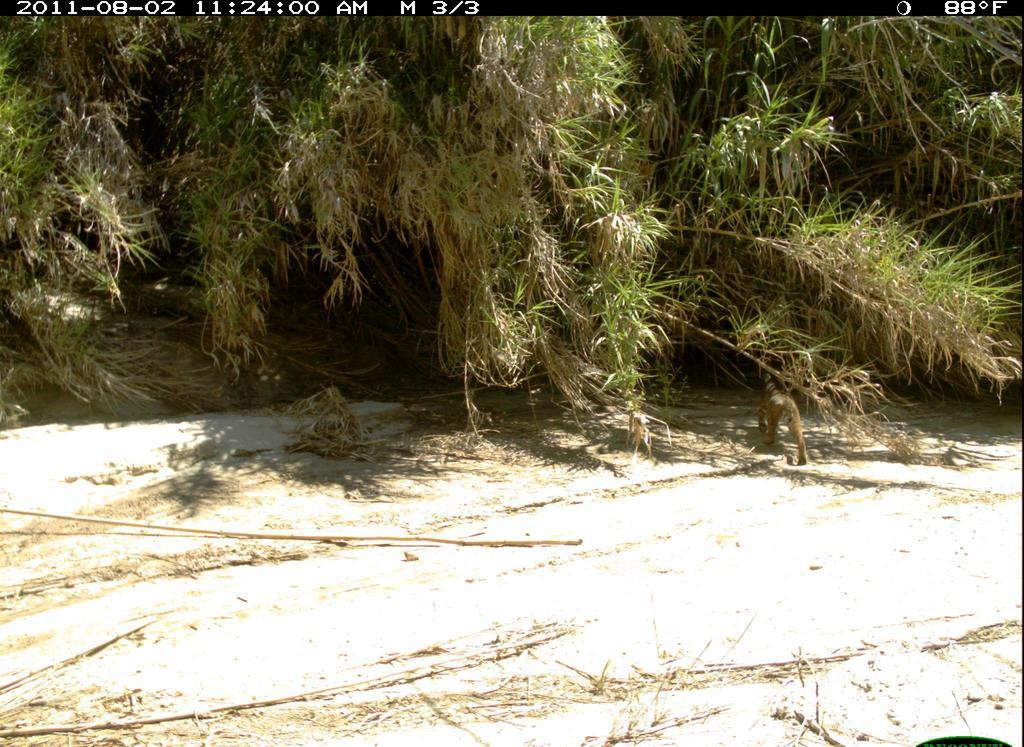bobcat: (745, 363, 817, 469)
